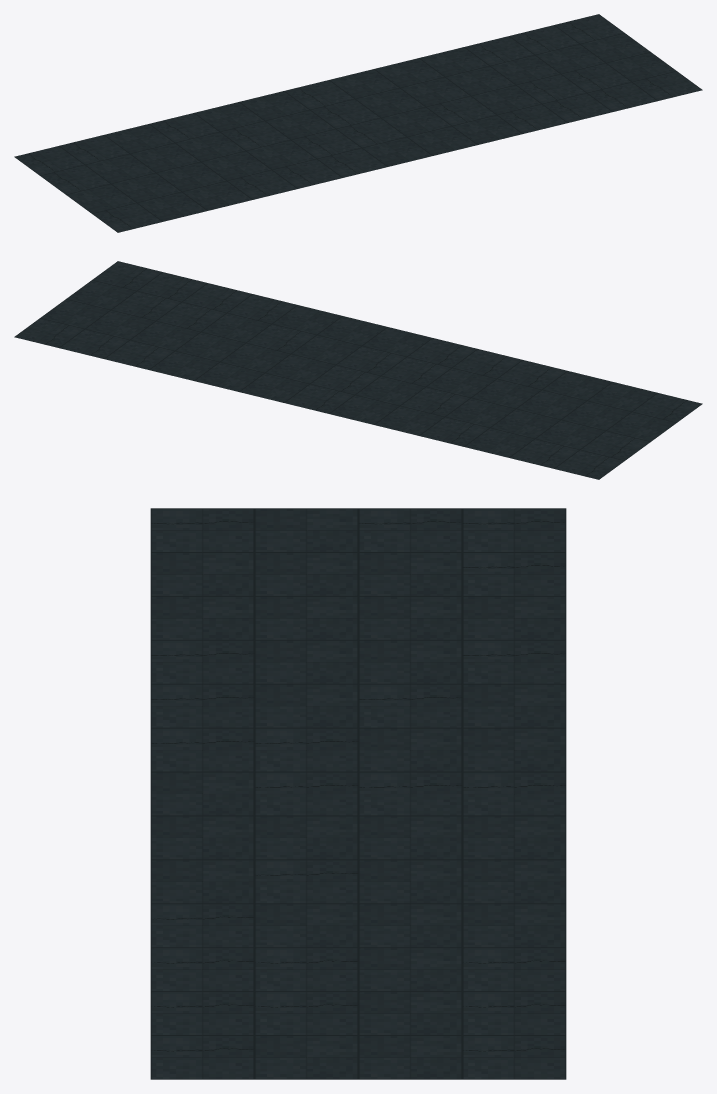
The model's file is T1_FloorStrip_W13_B.fbx.
The picture shows the model from 3 angles, top to bottom: view 1: azimuth 30°, elevation 25°; view 2: azimuth 150°, elevation 25°; view 3: azimuth 270°, elevation 25°; orthographic projection. The views are drawn at different scales.
Visible parts, largest first — view 1: T1_FloorStrip_W13_B; view 2: T1_FloorStrip_W13_B; view 3: T1_FloorStrip_W13_B.
Boxes of the visible parts, box(x1,y1,x2,y2) form: T1_FloorStrip_W13_B: box(14, 14, 702, 232); T1_FloorStrip_W13_B: box(14, 261, 702, 479); T1_FloorStrip_W13_B: box(150, 508, 566, 1079).
Bounding box in the file's own units: 14.62 × 0 × 4.5.
